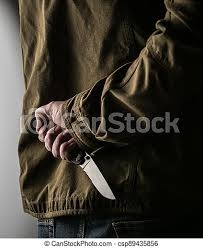knife: (78, 148, 116, 199)
